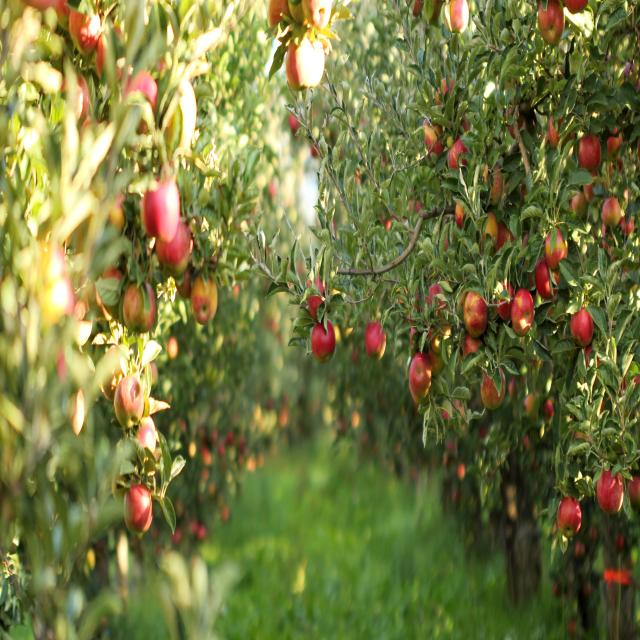apple: (537, 0, 566, 47), (191, 279, 220, 326), (461, 283, 485, 338), (513, 288, 534, 337)
